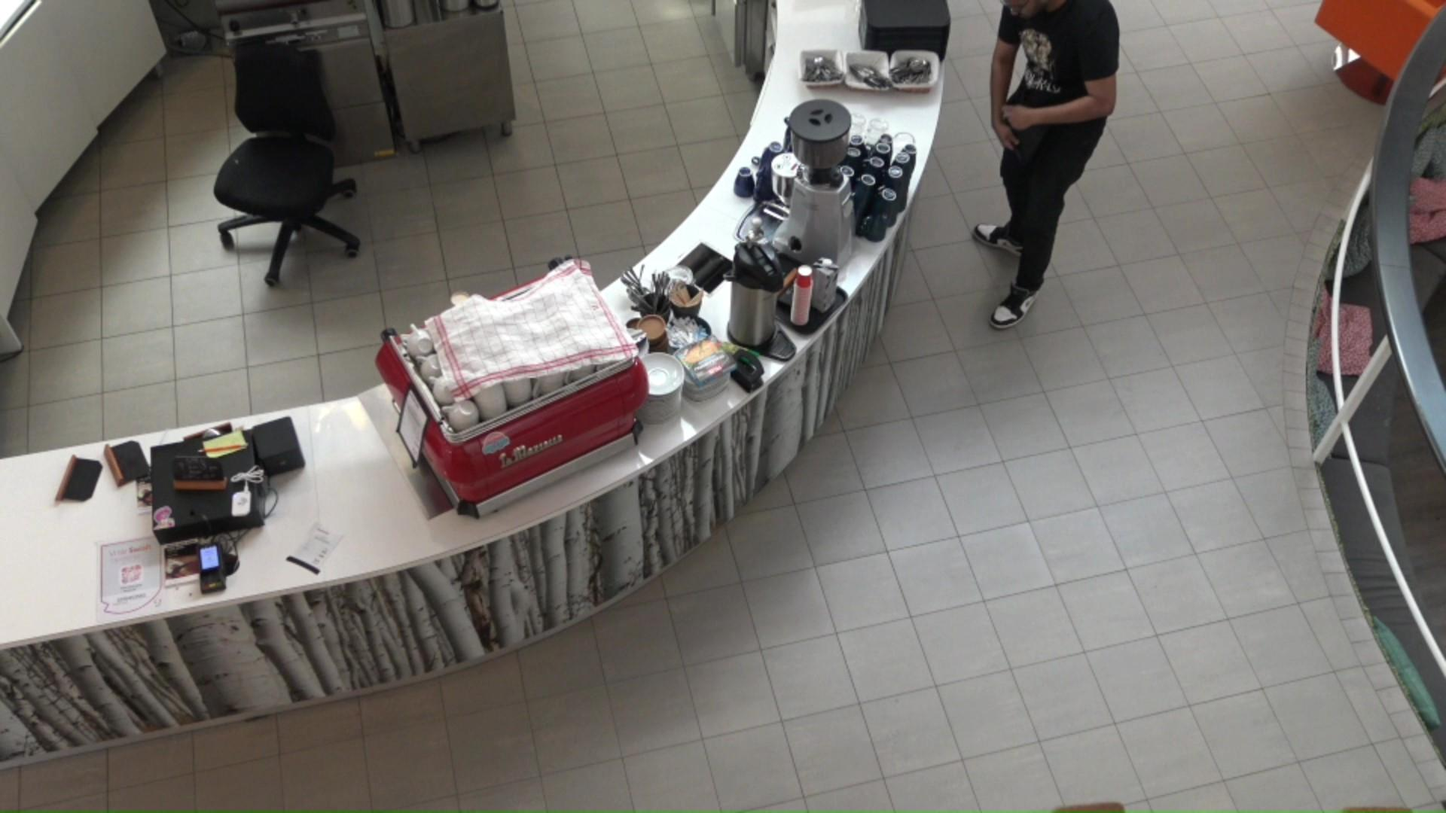shoplifting: (972, 0, 1119, 330)
